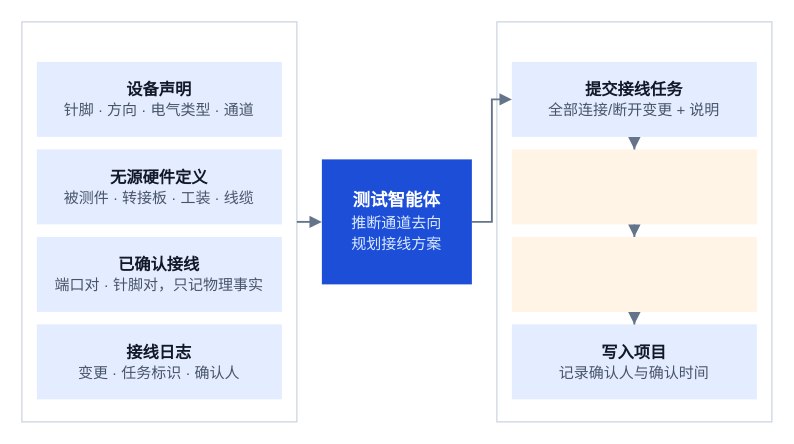
Image size: 794x444. Some labels were removed from this diagram. Each missing label, with the box of its shape:
上下文（智能体可读）: (21, 21, 297, 422)
已全部完成 / 未完成 未完成须填原因，返回智能体: (511, 236, 756, 311)
操作员按卡片实物接线 智能体保持等待: (511, 149, 756, 224)
能力（受控）: (496, 21, 772, 422)
